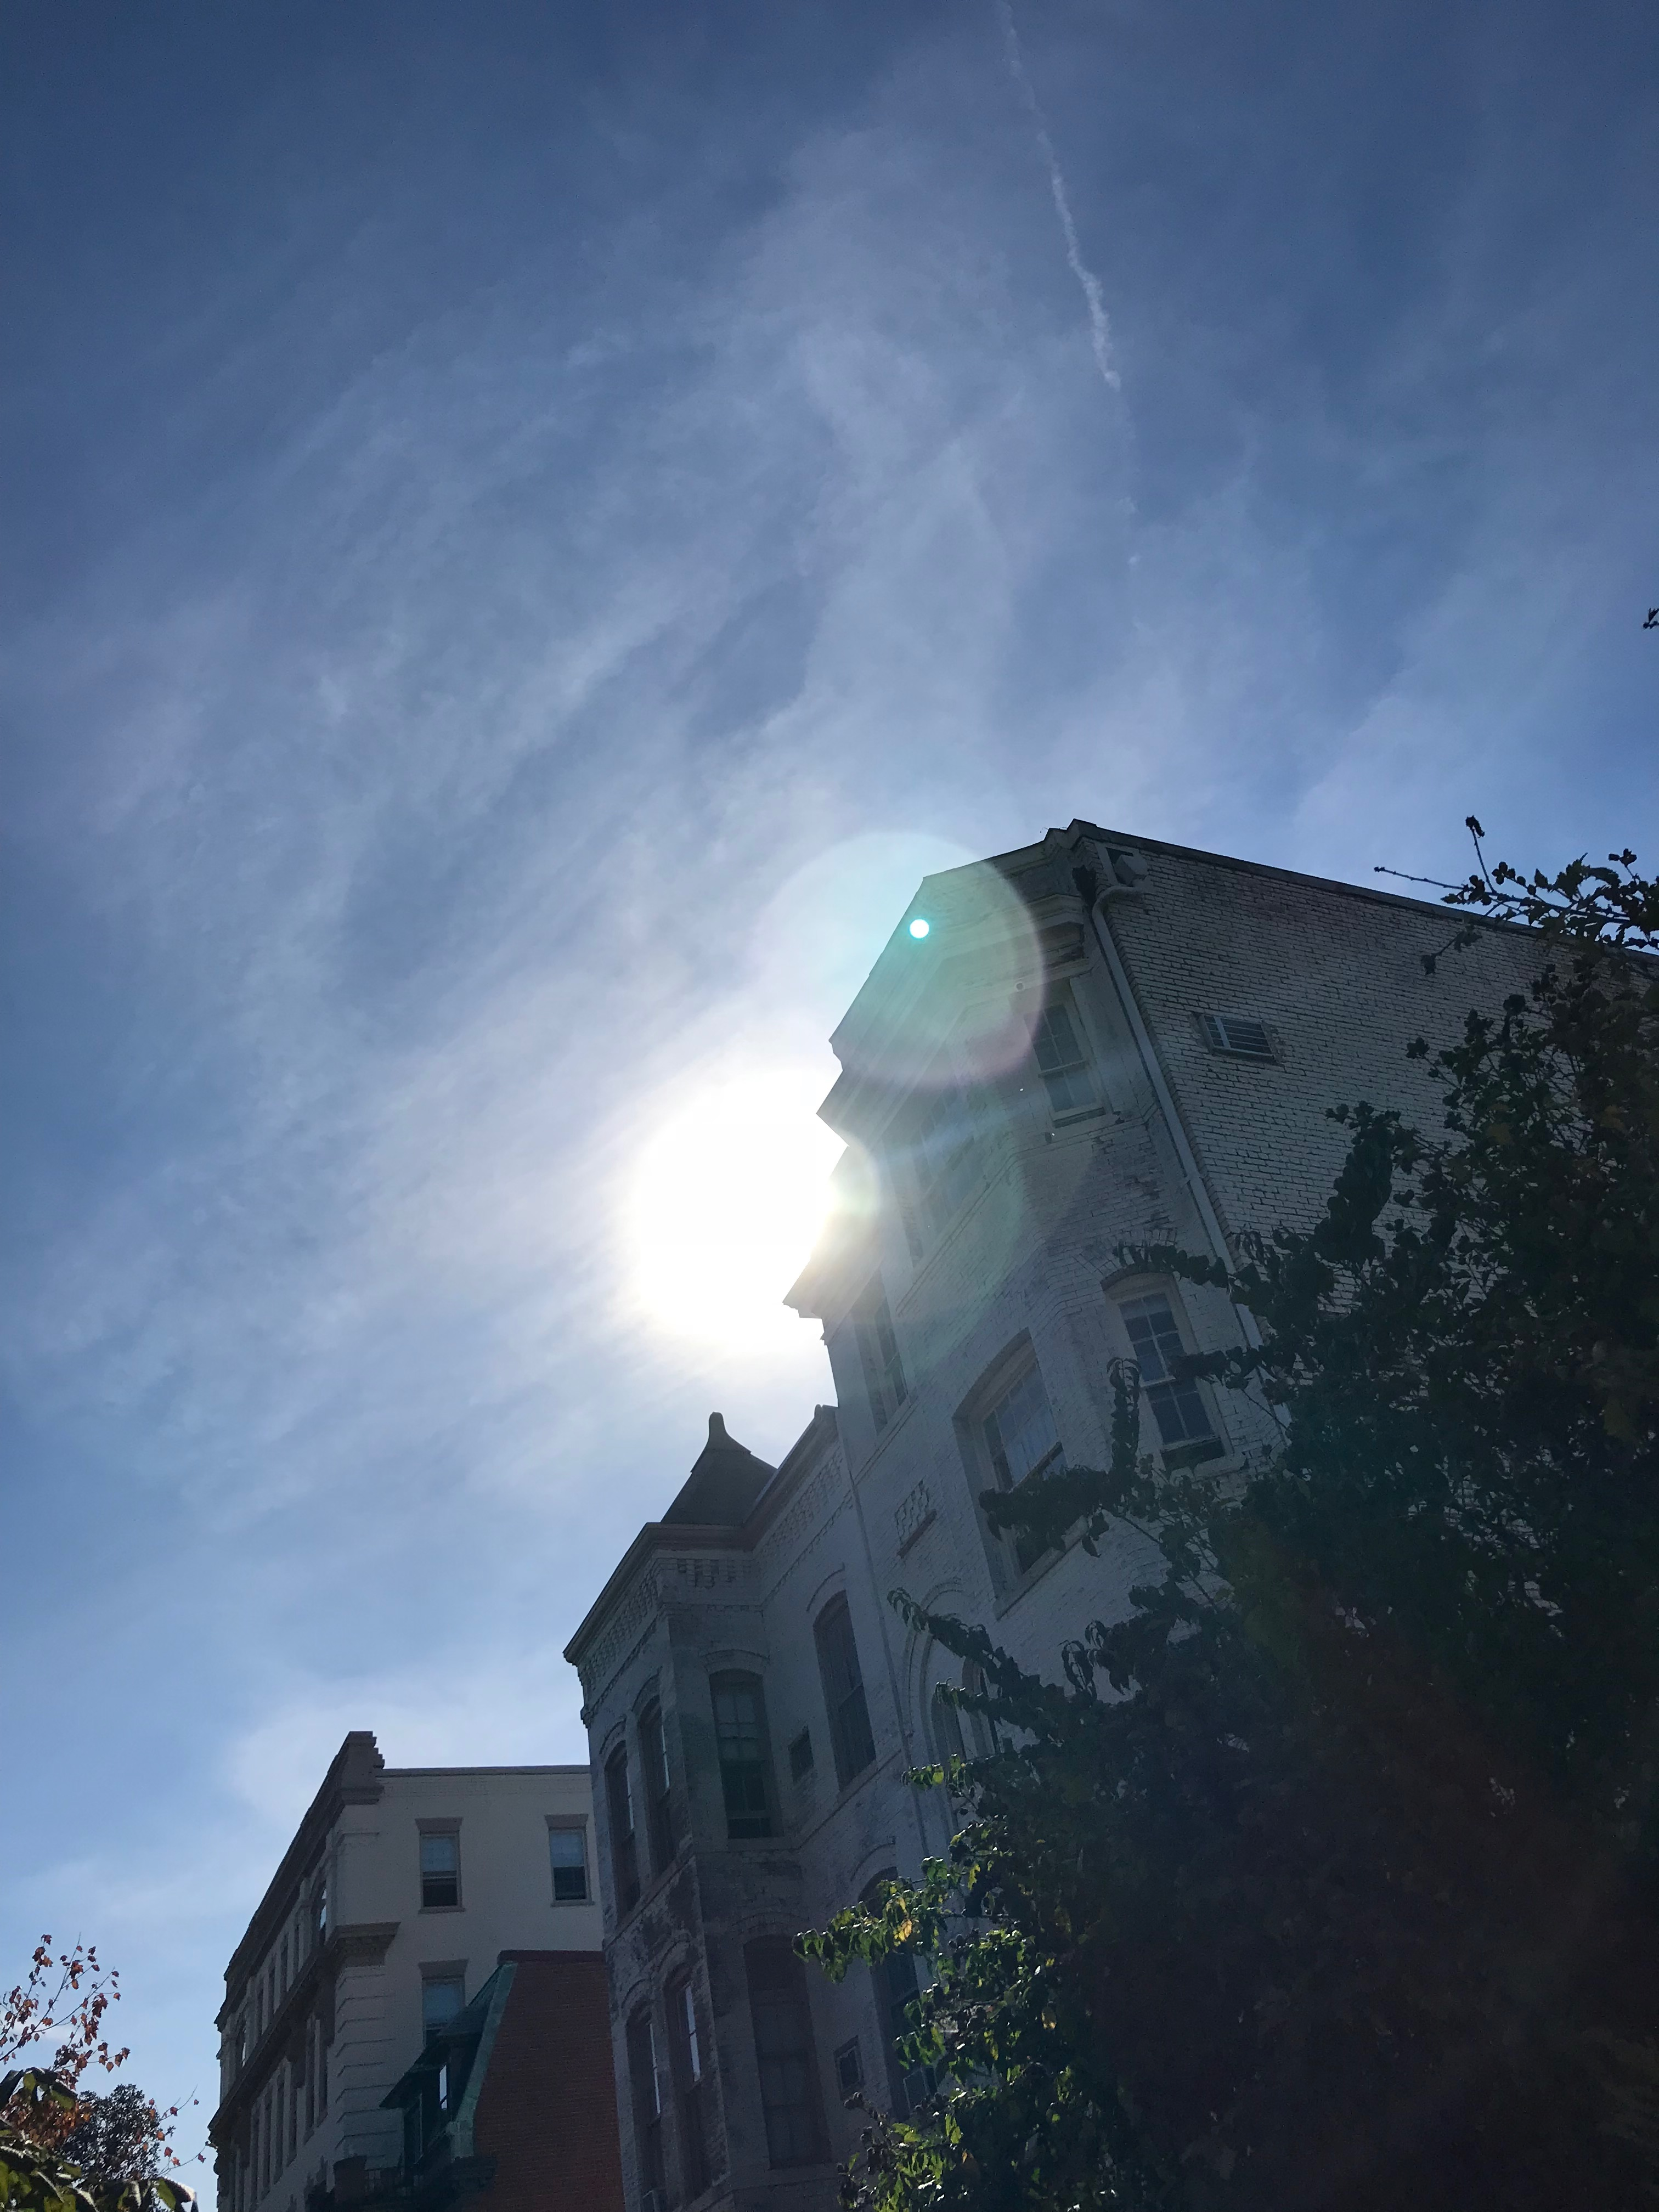flare: (908, 918, 932, 941)
